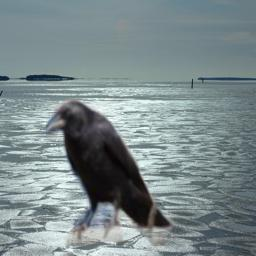Crow: (46, 97, 176, 246)
